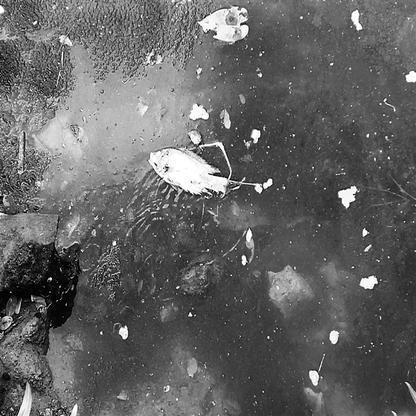deceased fish: (144, 148, 229, 199)
